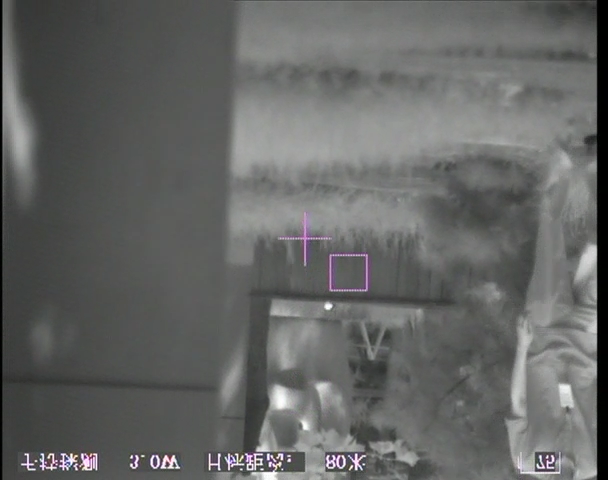my: (323, 300, 334, 311)
